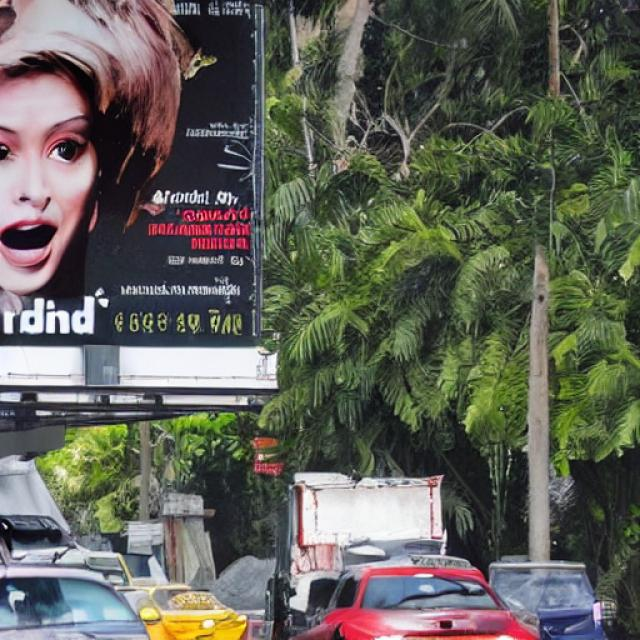Billboard: (0, 0, 261, 350)
